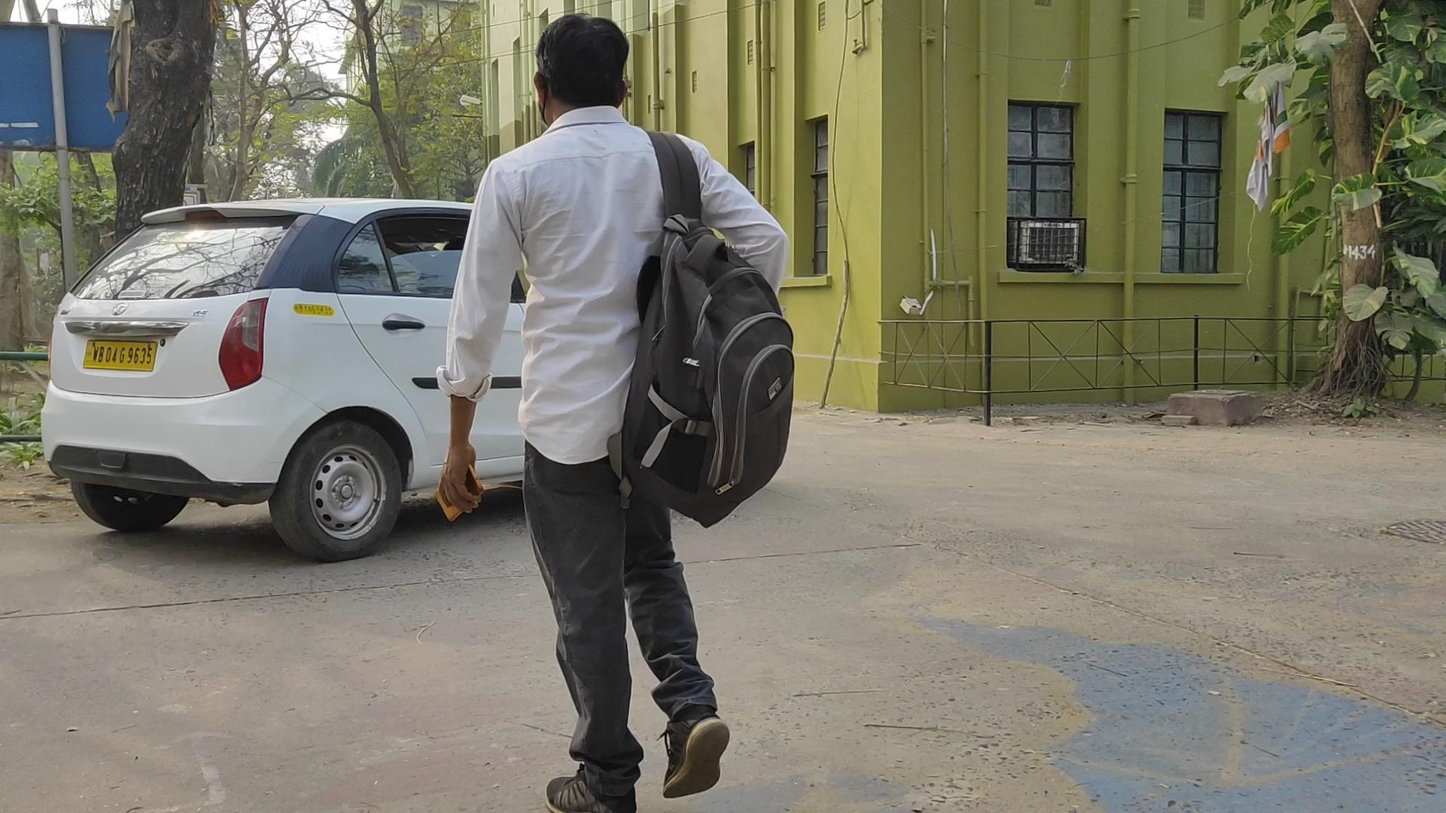car: (41, 201, 575, 561)
